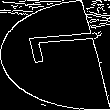L_E: (7, 36, 103, 74)
